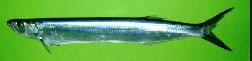Tenpounder: (6, 7, 236, 55)
